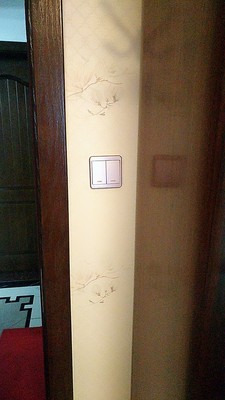switch: (108, 164, 122, 178), (94, 162, 106, 174)
